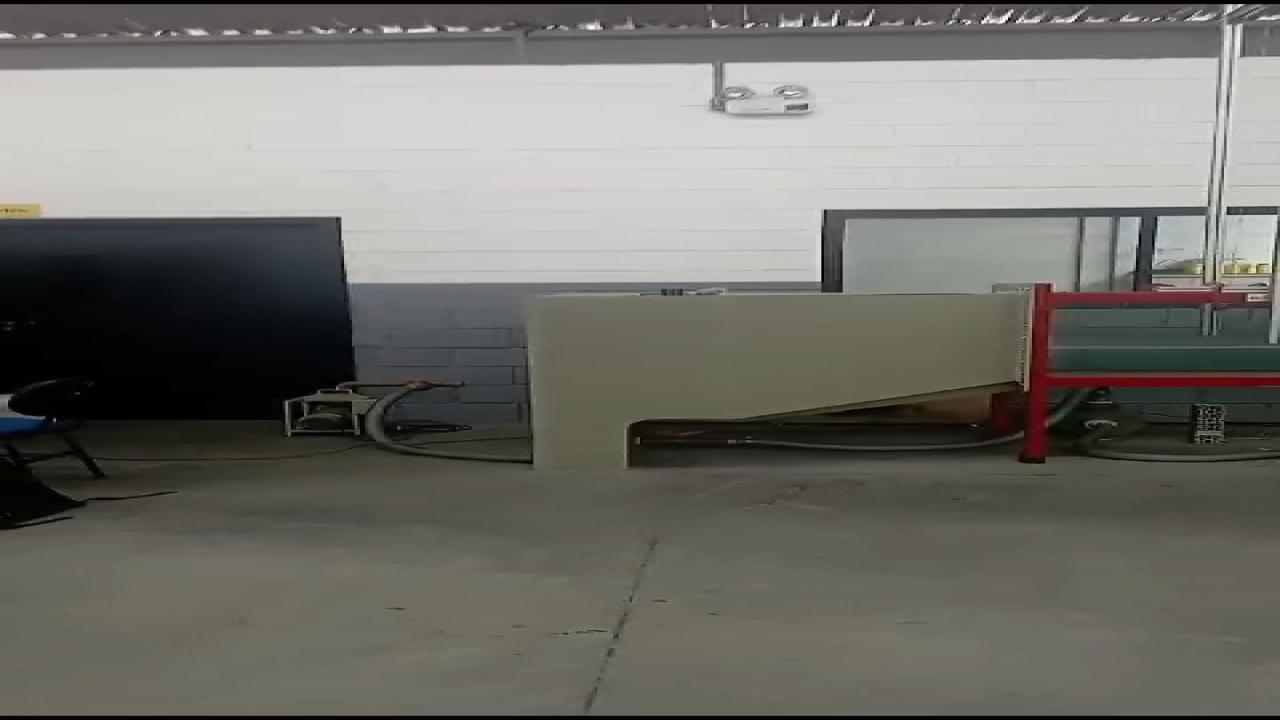Cube: (660, 288, 684, 296)
